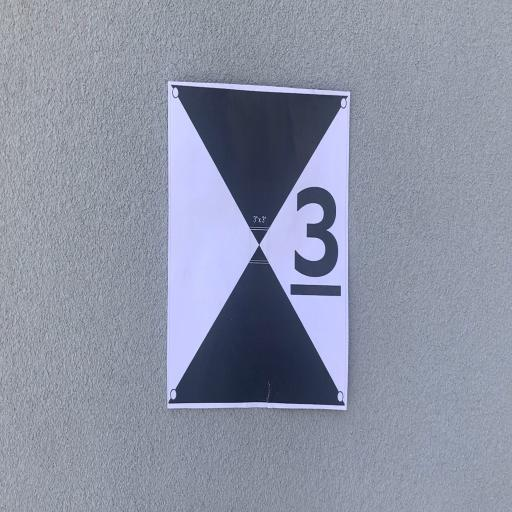target3: (167, 81, 351, 412)
